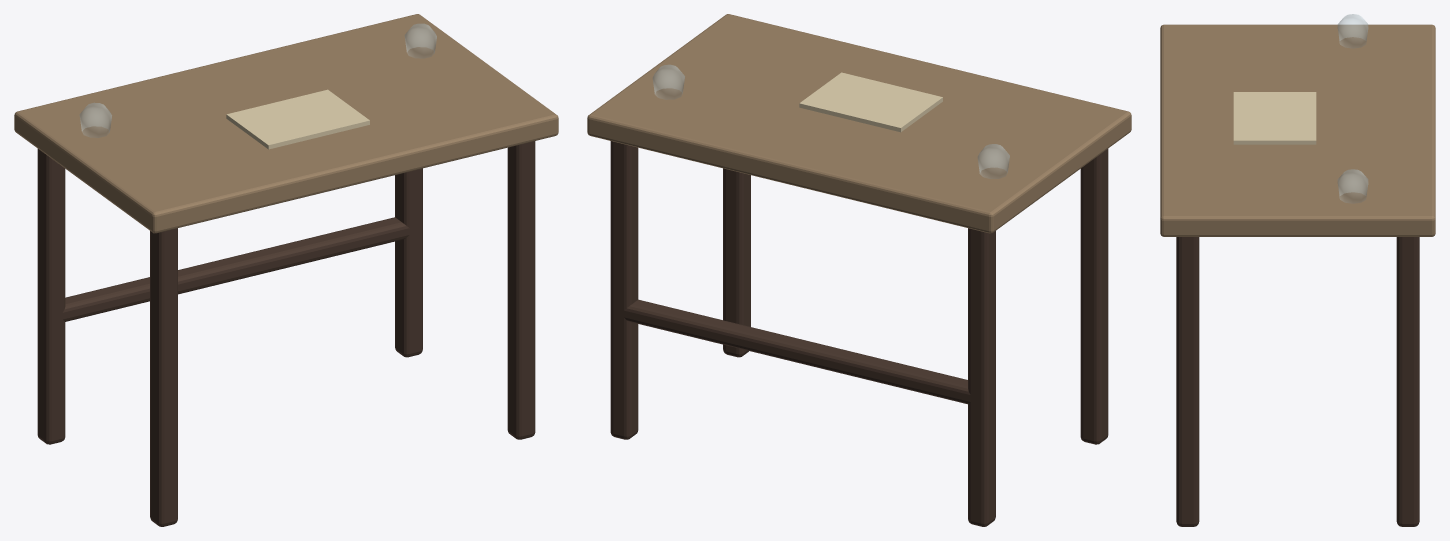
Rendered from student_desk_inkwell.glb.
3 views of the same model, side by side, from view 1: azimuth 30°, elevation 25°; view 2: azimuth 150°, elevation 25°; view 3: azimuth 270°, elevation 25° (orthographic). The views are drawn at different scales.
Parts seen in each view (by area): view 1: GD_student_desk_inkwell__m0, GD_student_desk_inkwell__m1, GD_student_desk_inkwell__m3, GD_student_desk_inkwell__m2; view 2: GD_student_desk_inkwell__m0, GD_student_desk_inkwell__m1, GD_student_desk_inkwell__m3, GD_student_desk_inkwell__m2; view 3: GD_student_desk_inkwell__m0, GD_student_desk_inkwell__m1, GD_student_desk_inkwell__m3, GD_student_desk_inkwell__m2.
Boxes of the visible parts, left/top/right/bottom form: GD_student_desk_inkwell__m0: left=14, top=14, right=558, bottom=233; GD_student_desk_inkwell__m1: left=37, top=141, right=535, bottom=526; GD_student_desk_inkwell__m3: left=226, top=89, right=369, bottom=149; GD_student_desk_inkwell__m2: left=79, top=23, right=436, bottom=137; GD_student_desk_inkwell__m0: left=587, top=14, right=1131, bottom=233; GD_student_desk_inkwell__m1: left=610, top=141, right=1108, bottom=526; GD_student_desk_inkwell__m3: left=799, top=72, right=942, bottom=132; GD_student_desk_inkwell__m2: left=652, top=64, right=1009, bottom=178; GD_student_desk_inkwell__m0: left=1160, top=24, right=1435, bottom=236; GD_student_desk_inkwell__m1: left=1176, top=237, right=1419, bottom=526; GD_student_desk_inkwell__m3: left=1233, top=92, right=1316, bottom=144; GD_student_desk_inkwell__m2: left=1337, top=14, right=1368, bottom=203.
Size of the model in its own units: 1 by 0.825 by 0.6.
